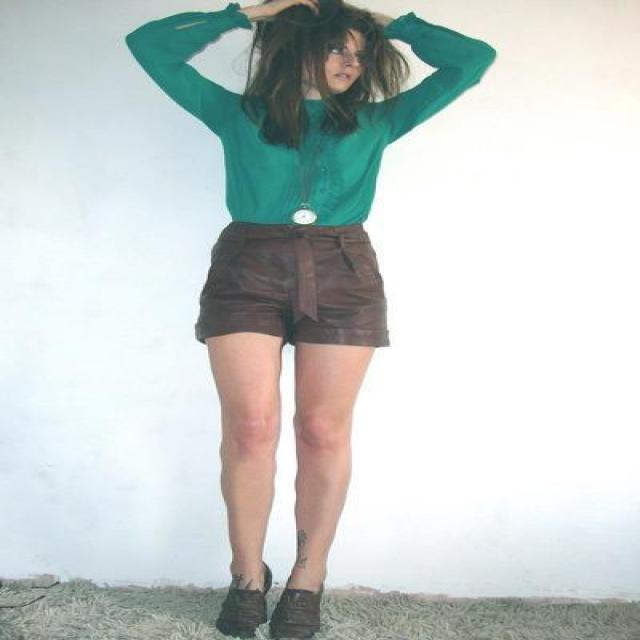shirt: (125, 3, 494, 227)
shoe: (222, 576, 322, 614)
shorts: (195, 221, 387, 348)
